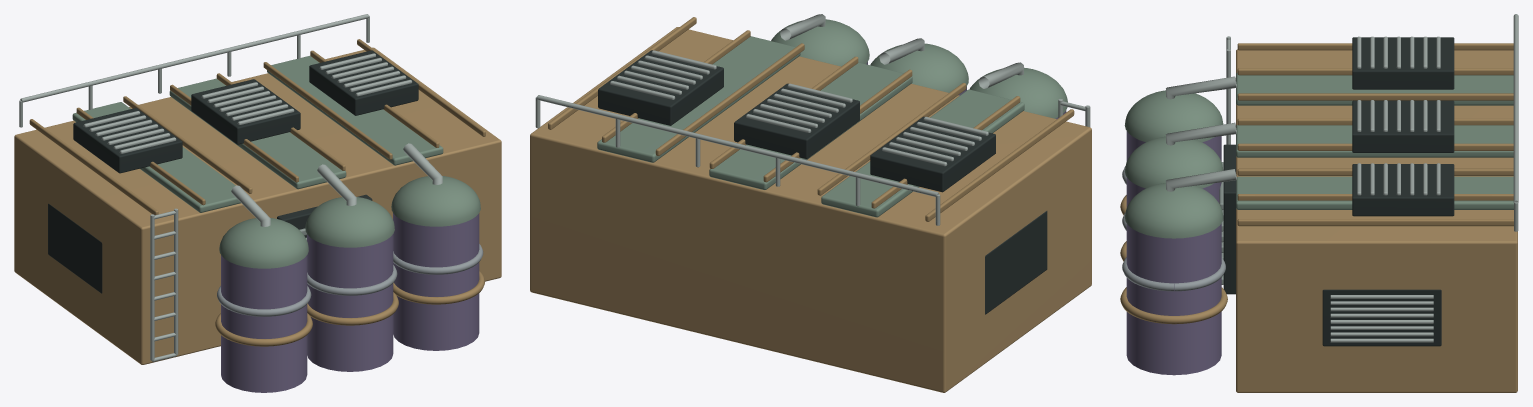
3 renders of one model, left to right at view 1: azimuth 30°, elevation 25°; view 2: azimuth 150°, elevation 25°; view 3: azimuth 270°, elevation 25°, orthographic. The views are drawn at different scales.
Visible parts, largest first — view 1: Low factory main hall, Cylindrical tower, Cylindrical tower.001, Cylindrical tower.002, Factory roof service strip.002, Factory auxiliary tank cap.002, Factory auxiliary tank cap, Factory auxiliary tank cap.001, Factory ventilation curb, Factory ventilation curb.002, Factory ventilation curb.001, Factory roof service strip (+23 smaller); view 2: Low factory main hall, Factory roof service strip.002, Factory ventilation curb.002, Factory ventilation curb, Factory ventilation curb.001, Factory roof service strip.001, Factory roof service strip, Factory side plant recessed housing, Factory auxiliary tank cap.002, Factory auxiliary tank cap.001, Factory auxiliary tank cap, Safety handrail (+11 smaller); view 3: Low factory main hall, Cylindrical tower.002, Factory roof service strip.001, Factory roof service strip.002, Factory roof service strip, Factory ventilation curb, Factory ventilation curb.002, Factory ventilation curb.001, Factory side plant recessed housing.001, Factory auxiliary tank cap.002, Factory auxiliary tank cap.001, Factory auxiliary tank cap (+26 smaller).
Part boxes in pixels (box(x1,y1,x2,y2)): Low factory main hall: box(14, 47, 501, 364); Cylindrical tower: box(221, 255, 307, 392); Cylindrical tower.001: box(307, 234, 393, 371); Cylindrical tower.002: box(393, 213, 479, 350); Factory roof service strip.002: box(267, 56, 443, 165); Factory auxiliary tank cap.002: box(391, 176, 480, 226); Factory auxiliary tank cap: box(219, 218, 308, 268); Factory auxiliary tank cap.001: box(305, 197, 394, 247); Factory ventilation curb: box(73, 108, 182, 173); Factory ventilation curb.002: box(309, 50, 418, 115); Factory ventilation curb.001: box(191, 79, 300, 144); Factory roof service strip: box(72, 102, 240, 212); Low factory main hall: box(530, 27, 1091, 392); Factory roof service strip.002: box(597, 36, 800, 162); Factory ventilation curb.002: box(598, 50, 723, 125); Factory ventilation curb: box(870, 116, 995, 192); Factory ventilation curb.001: box(734, 83, 859, 158); Factory roof service strip.001: box(709, 62, 912, 189); Factory roof service strip: box(821, 89, 1024, 217); Factory side plant recessed housing: box(985, 211, 1047, 314); Factory auxiliary tank cap.002: box(771, 19, 869, 66); Factory auxiliary tank cap.001: box(870, 43, 968, 92); Factory auxiliary tank cap: box(969, 67, 1067, 118); Safety handrail: box(537, 95, 938, 196); Low factory main hall: box(1236, 49, 1517, 392); Cylindrical tower.002: box(1126, 223, 1221, 375); Factory roof service strip.001: box(1236, 125, 1513, 157); Factory roof service strip.002: box(1236, 176, 1513, 209); Factory roof service strip: box(1236, 72, 1513, 105); Factory ventilation curb: box(1352, 37, 1454, 89); Factory ventilation curb.002: box(1352, 164, 1454, 216); Factory ventilation curb.001: box(1352, 100, 1454, 152); Factory side plant recessed housing.001: box(1322, 289, 1441, 346); Factory auxiliary tank cap.002: box(1124, 183, 1223, 238); Factory auxiliary tank cap.001: box(1124, 136, 1223, 188); Factory auxiliary tank cap: box(1124, 90, 1223, 142).
Bounding box in the file's own units: 2.63 × 1.26 × 2.26.
